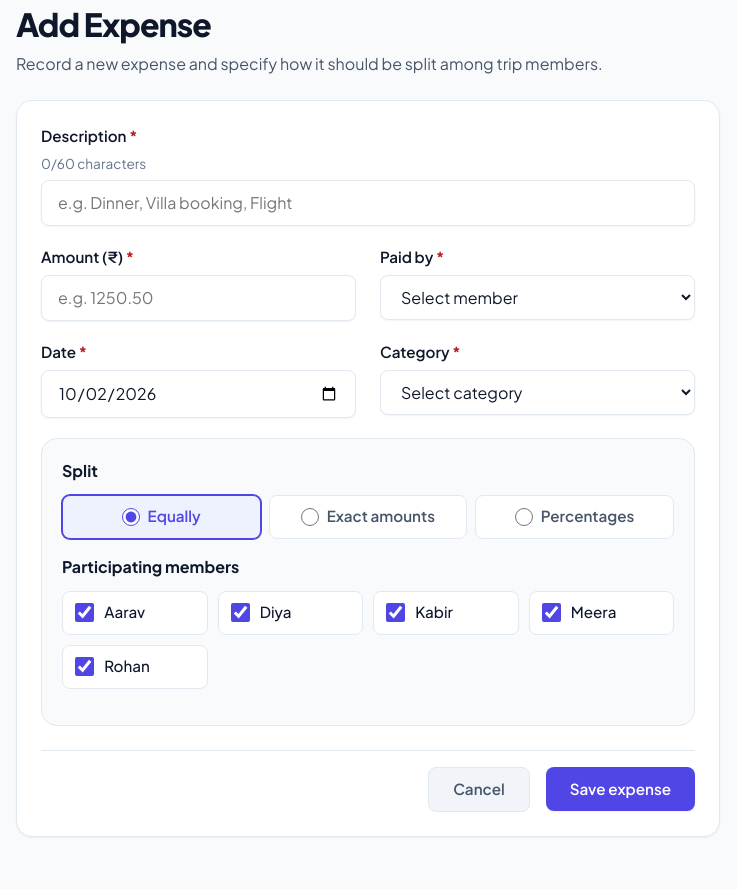
Test case: AddExpenseForm › 6. Equal split with all unchecked shows "Select at least one member"
What coordinates should you click on to do the following:
click the checkbox labelled "Aarav"
I would click on:
 (85, 613)
Its box is [75,603,94,622].
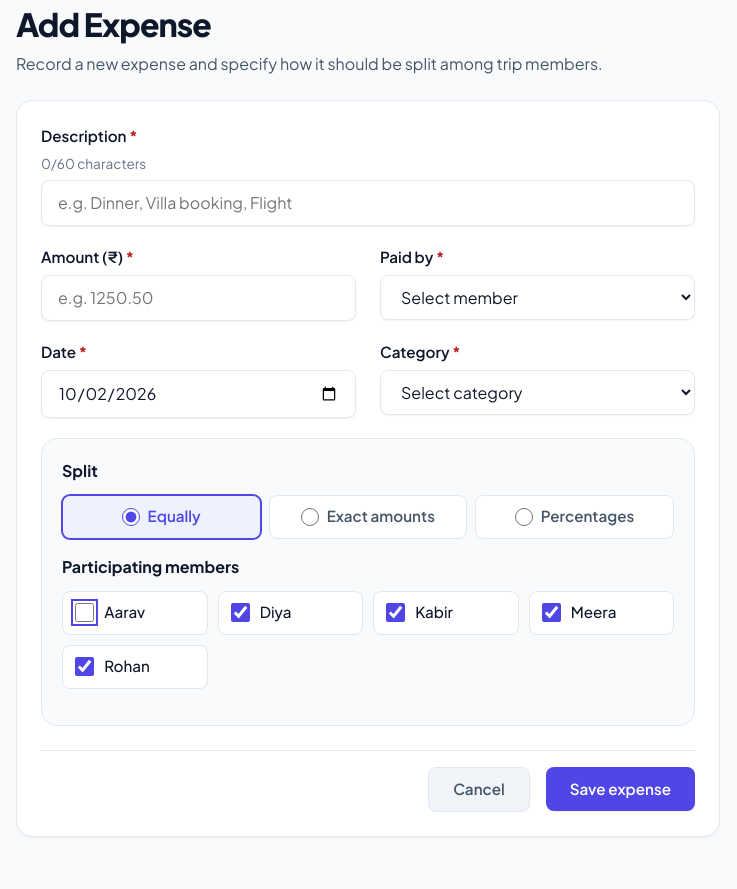
What coordinates should you click on to do the following:
click the checkbox labelled "Diya"
I would click on:
 (240, 613)
Its box is [230,603,250,622].
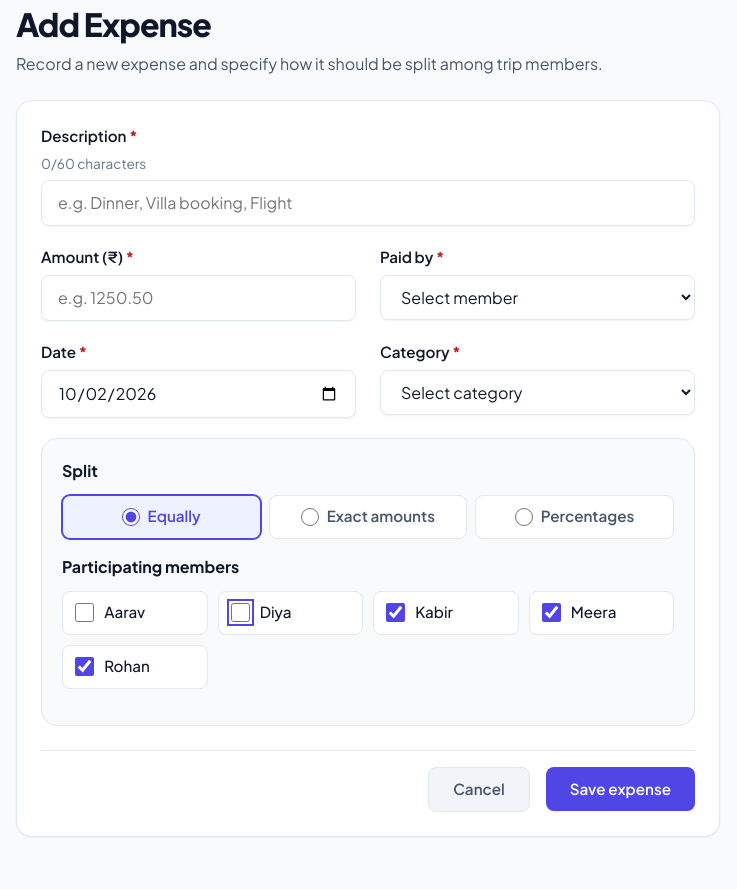
What coordinates should you click on to do the following:
click the checkbox labelled "Kabir"
I would click on:
 (396, 613)
Its box is [386,603,405,622].
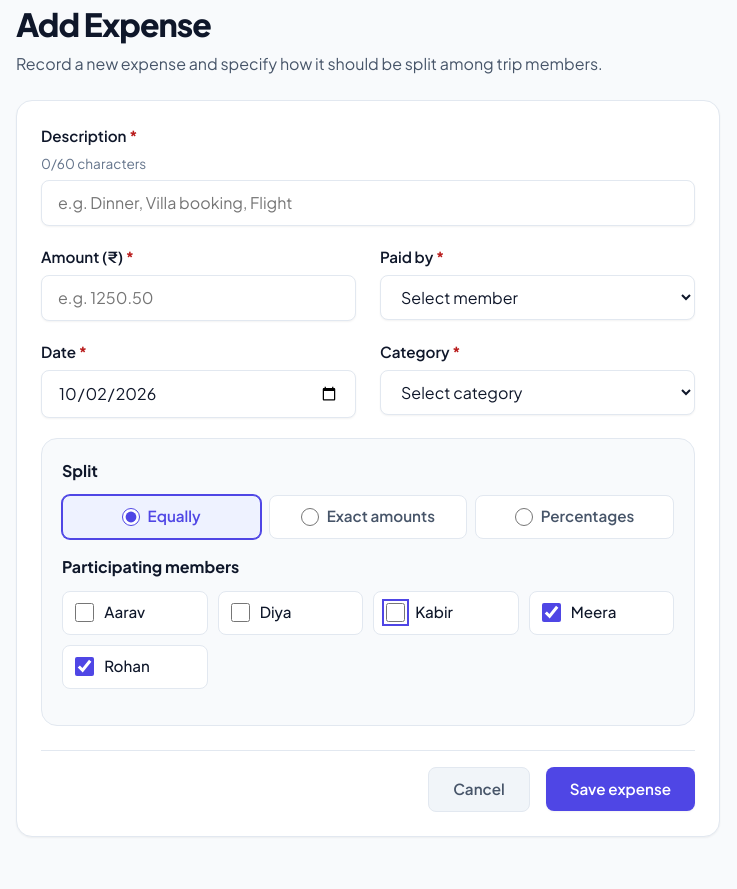
What coordinates should you click on to do the following:
click the checkbox labelled "Meera"
I would click on:
 (551, 613)
Its box is [542,603,561,622].
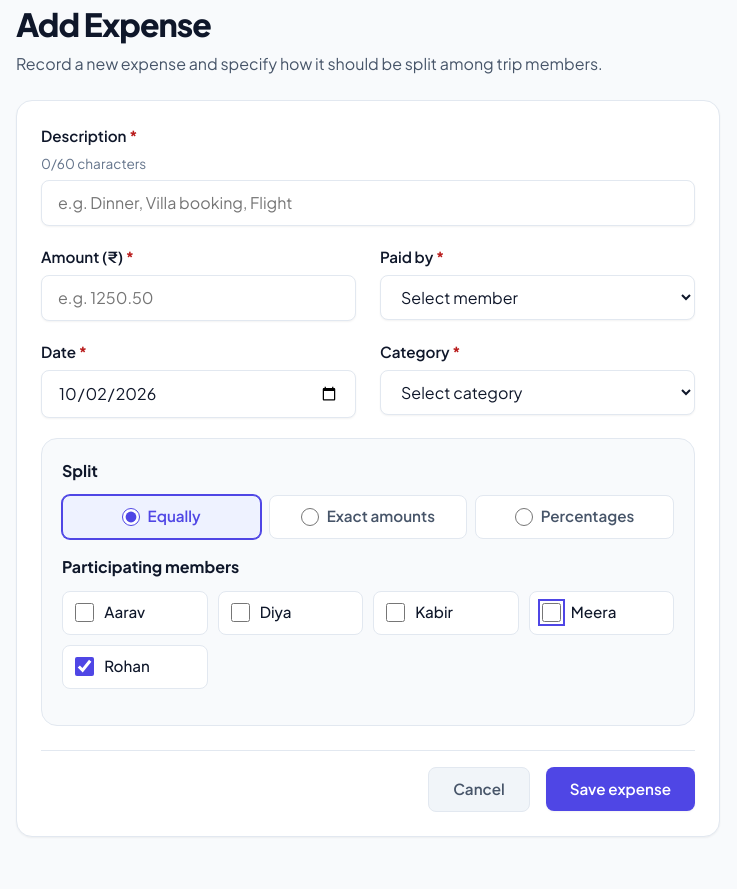
What coordinates should you click on to do the following:
click the checkbox labelled "Rohan"
I would click on:
 (85, 667)
Its box is [75,657,94,676].
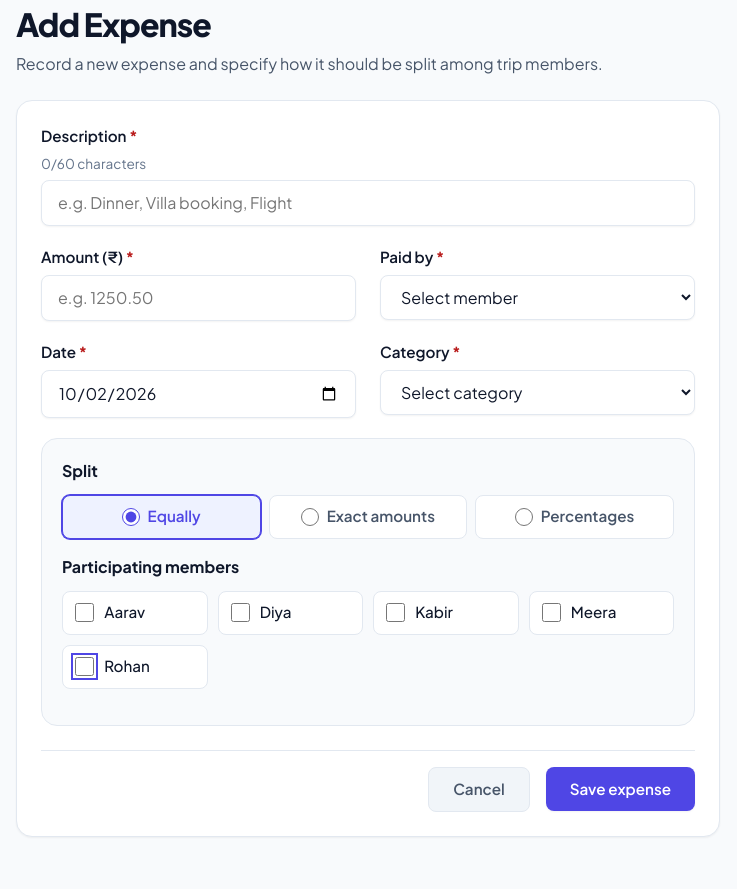
What coordinates should you click on to do the following:
click the button "Save expense"
I would click on:
 (620, 789)
Its box is [546,767,695,811].
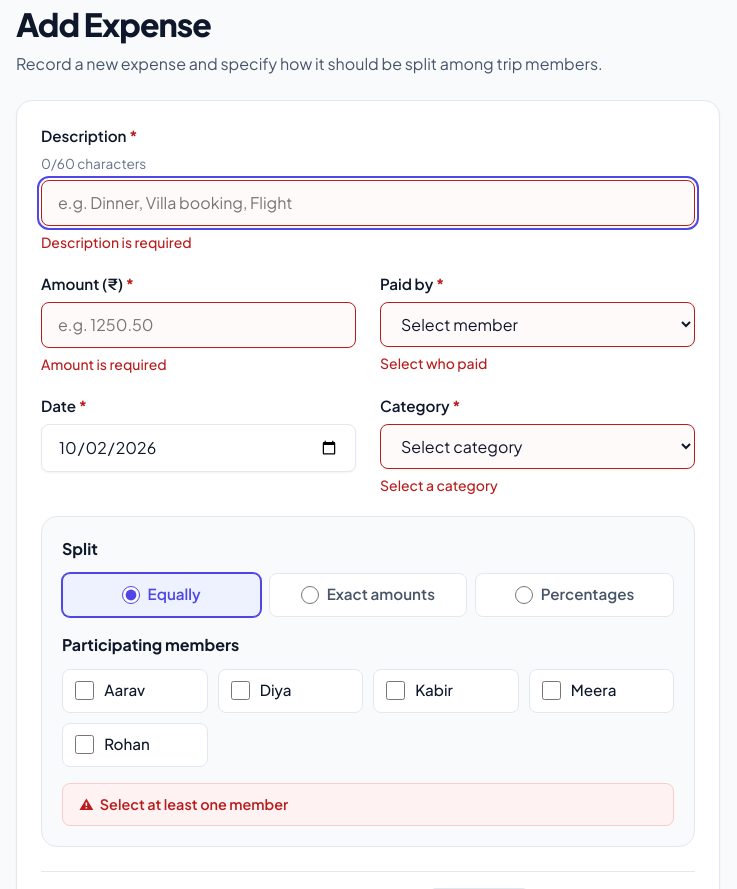
Result: the text "Select at least one member" is shown at [100,795,288,813]
